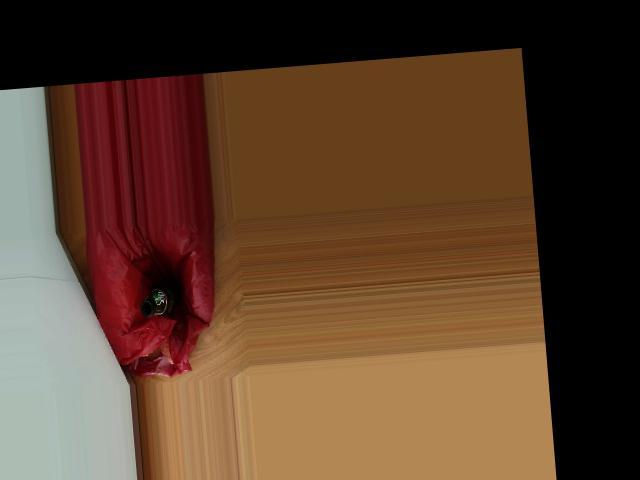beer: (139, 280, 183, 317)
